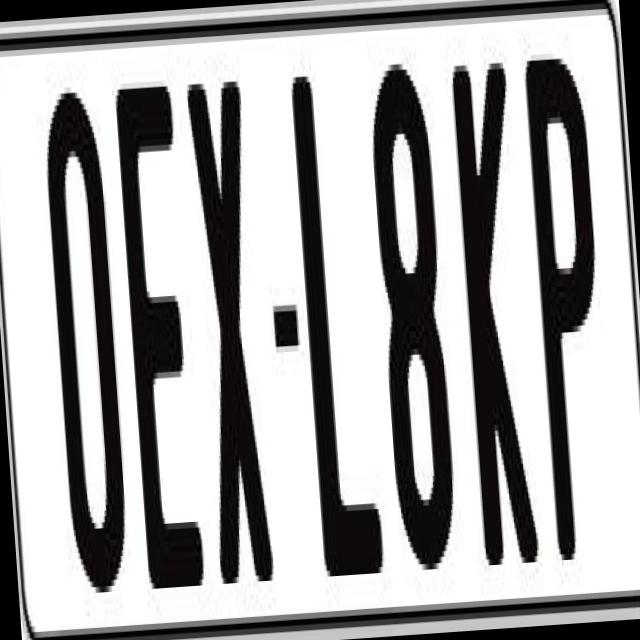0: (41, 90, 135, 599)
8: (364, 50, 458, 583)
E: (110, 74, 202, 601)
K: (450, 62, 546, 600)
L: (290, 72, 396, 612)
P: (523, 39, 617, 554)
X: (184, 68, 277, 608)
